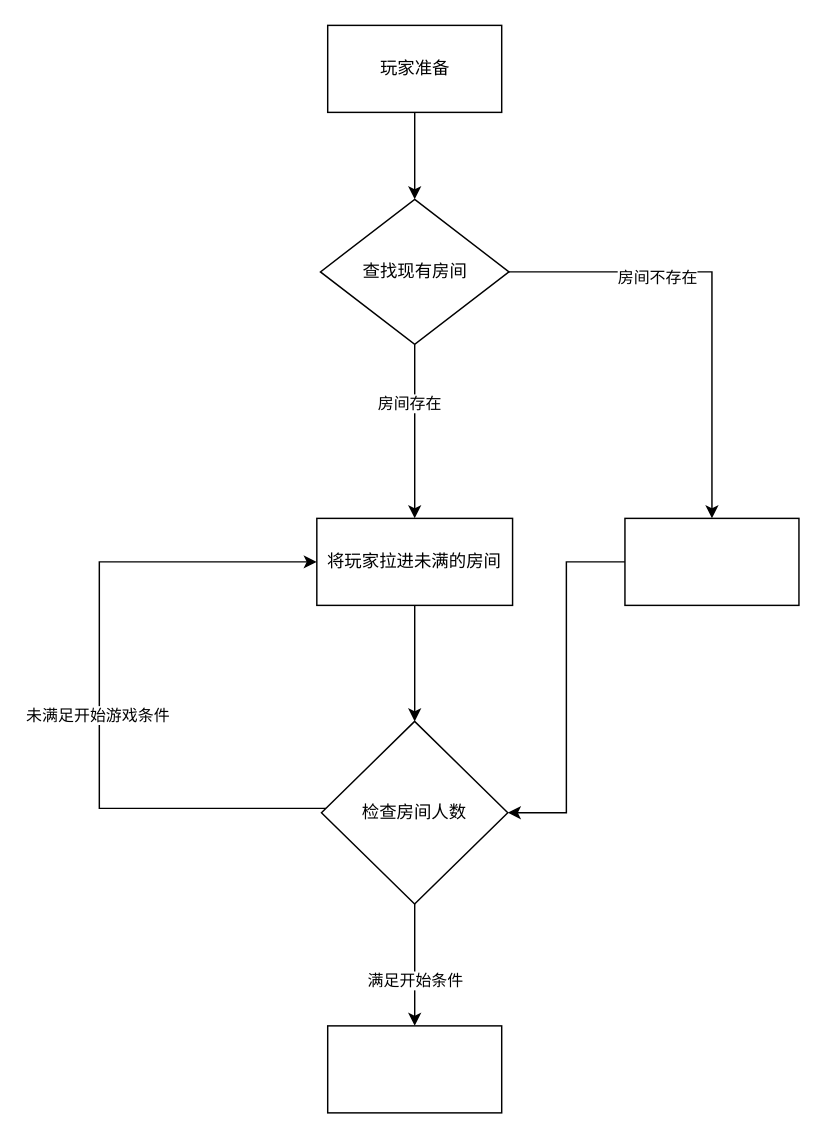
Some shapes in this 824 by 1138 pixel diagram are drawn without their labels. The shapes that lost their labels are listed below. From the top down, each one's box as (x1, y1, x2, y2) in pixels, then its label:
(624, 517, 799, 605): 创建房间
(326, 1024, 502, 1113): 开始游戏
